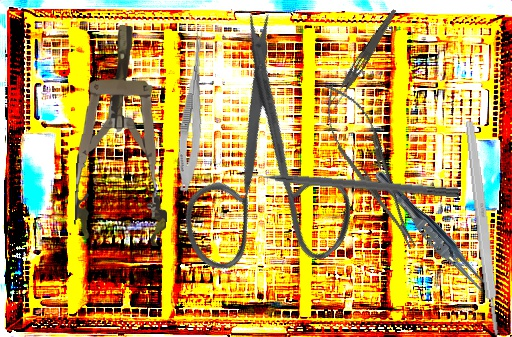Dressing Forceps: (325, 5, 400, 112)
Iris Scissors: (98, 1, 416, 322)
Micro Scissor: (174, 25, 209, 193)
Needle Holder: (309, 75, 432, 258)
Pusher: (237, 166, 461, 199)
Scalpel Handle: (462, 120, 503, 337)
Speculum: (73, 23, 174, 247)
Tissue Forceps: (367, 166, 500, 302)
